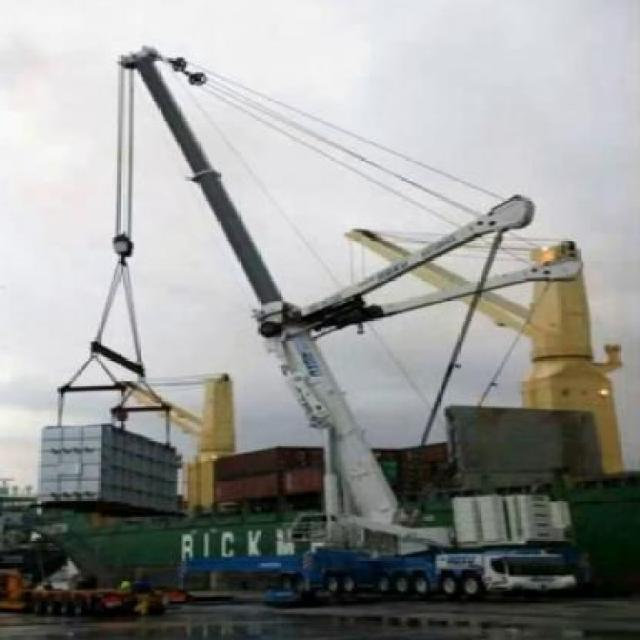Mobile Crane: (116, 47, 589, 602)
